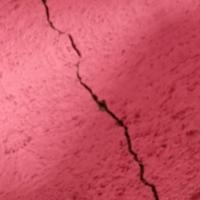crack: (38, 0, 195, 199)
